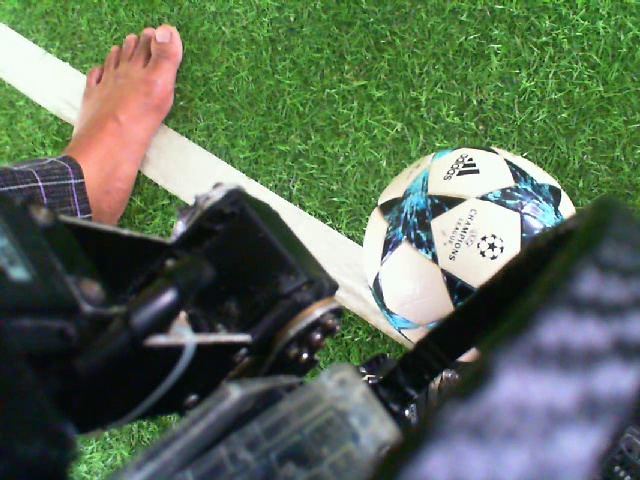ball: (359, 143, 580, 346)
